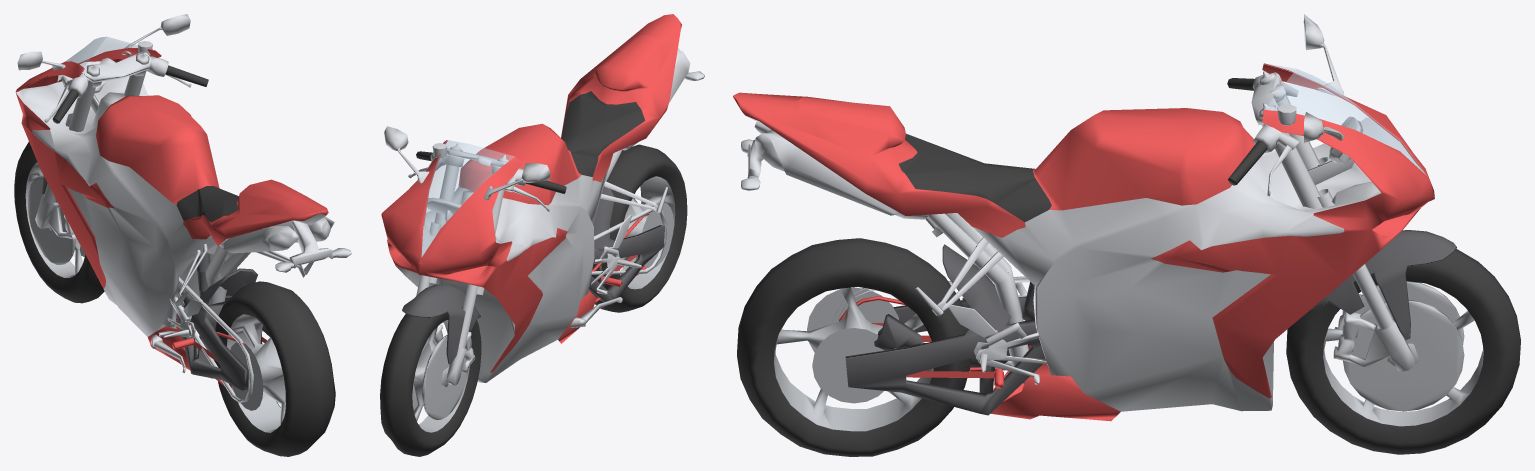
Rendered from ninja.glb.
The picture shows the model from 3 angles, left to right: view 1: azimuth 30°, elevation 25°; view 2: azimuth 150°, elevation 25°; view 3: azimuth 270°, elevation 25°; orthographic projection. The views are drawn at different scales.
Parts seen in each view (by area): view 1: Kawasaki_Ninja_ZX-6R, wheel_rear, wheel_front, BackAngularAbsorber, Steer, FrontAxle, Rear; view 2: Kawasaki_Ninja_ZX-6R, wheel_front, wheel_rear, FrontAxle, BackAngularAbsorber, Steer, Rear; view 3: Kawasaki_Ninja_ZX-6R, wheel_rear, wheel_front, BackAngularAbsorber, FrontAxle, Steer, Rear.
Part boxes in pixels (<box>): Kawasaki_Ninja_ZX-6R: <box>15,14,351,378</box>; wheel_rear: <box>214,281,335,456</box>; wheel_front: <box>14,142,104,303</box>; BackAngularAbsorber: <box>176,268,270,402</box>; Steer: <box>44,41,208,131</box>; FrontAxle: <box>35,113,76,239</box>; Rear: <box>172,317,267,392</box>; Kawasaki_Ninja_ZX-6R: <box>381,14,704,382</box>; wheel_front: <box>380,308,481,456</box>; wheel_rear: <box>595,144,687,312</box>; FrontAxle: <box>402,222,480,385</box>; BackAngularAbsorber: <box>589,186,667,304</box>; Steer: <box>408,143,566,295</box>; Rear: <box>591,213,649,303</box>; Kawasaki_Ninja_ZX-6R: <box>733,14,1434,421</box>; wheel_rear: <box>737,238,970,456</box>; wheel_front: <box>1286,249,1520,454</box>; BackAngularAbsorber: <box>832,244,1045,415</box>; FrontAxle: <box>1312,157,1456,370</box>; Steer: <box>1227,71,1321,208</box>; Rear: <box>839,296,1005,388</box>.
Size of the model in its own units: 0.6912 by 1.11 by 2.05.
